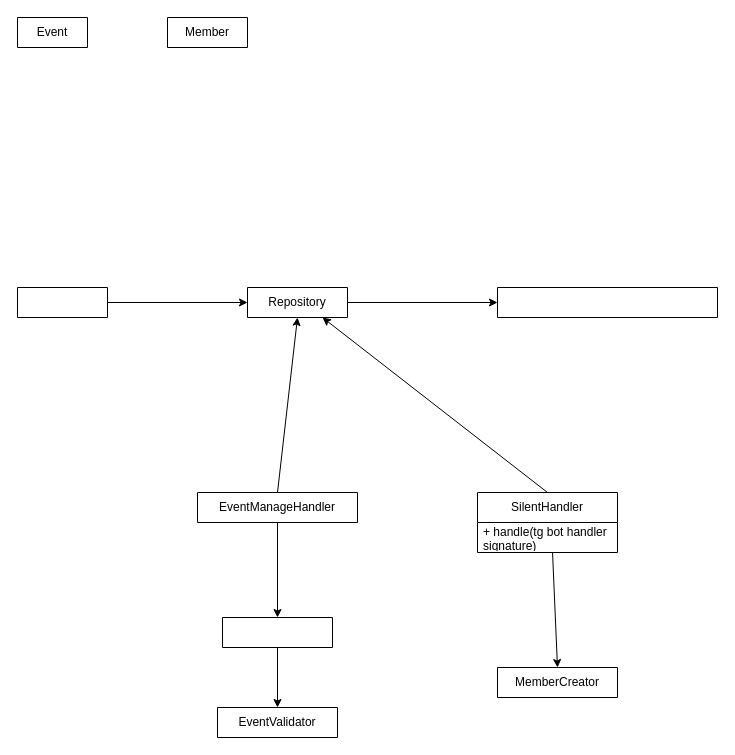
Image size: 735x755. Some labels were removed from this diagram. Here are the shapes that lost their labels. From the top down, the centre of each, then its label:
At point (62, 302): "Scheduler".
At point (607, 302): "EntittyToRepositoryItemConverter".
At point (277, 632): "EventCreator".
